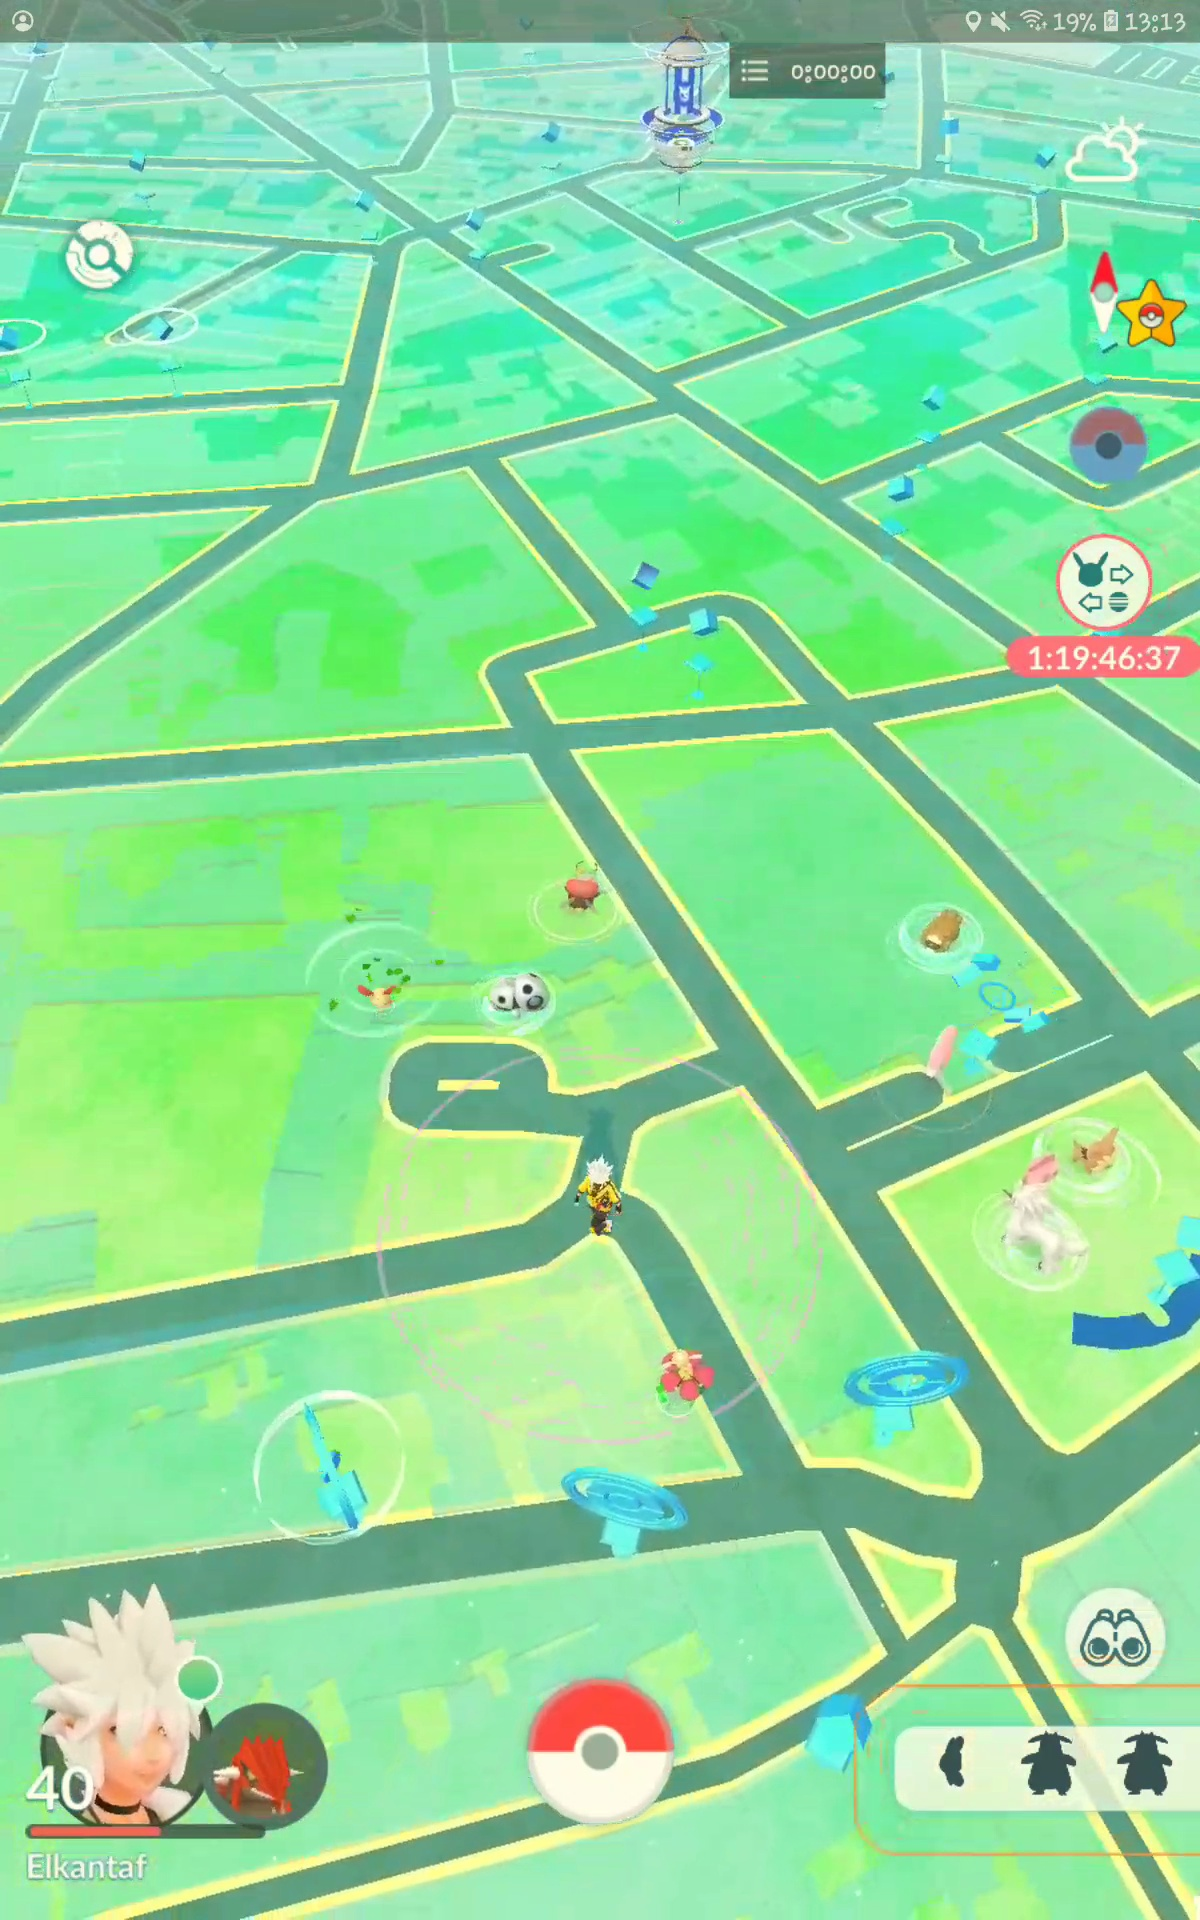Pokemon: (1000, 1185, 1087, 1283), (474, 965, 560, 1034), (651, 1344, 726, 1414), (552, 851, 618, 926), (1066, 1120, 1136, 1182), (914, 904, 976, 959), (353, 972, 413, 1023), (1016, 1147, 1067, 1189)
